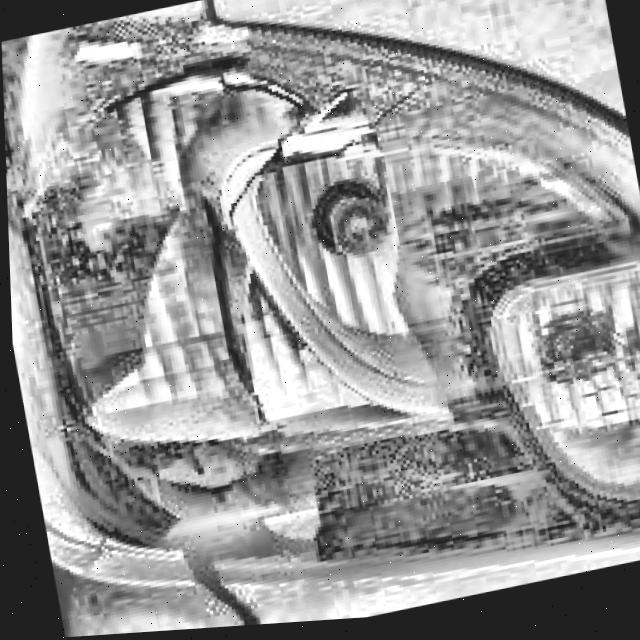tail_lamp: (28, 21, 475, 594)
